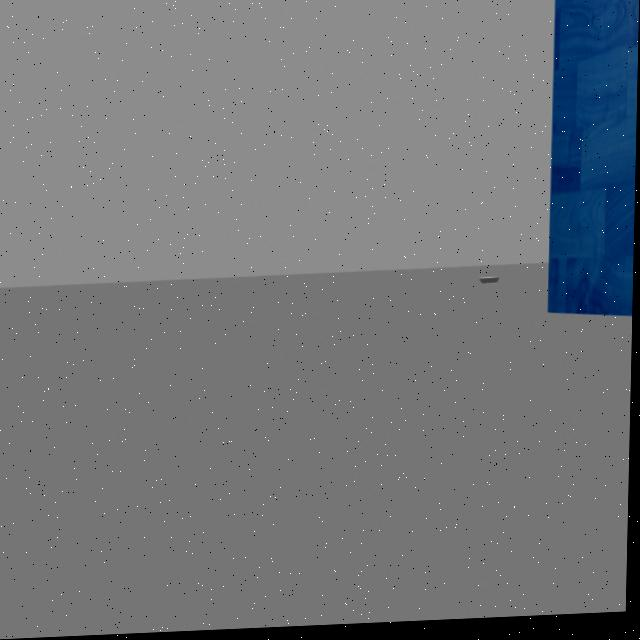bowl: (479, 276, 505, 291)
shelf: (535, 0, 640, 354)
